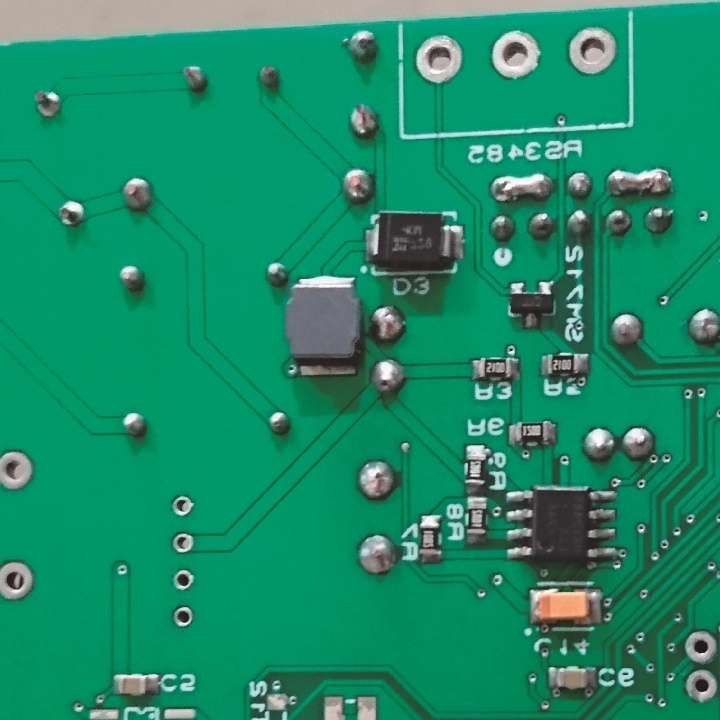F: (490, 26, 543, 83), (410, 32, 465, 86), (565, 26, 620, 79), (1, 449, 36, 495), (1, 563, 39, 605), (681, 627, 720, 666), (681, 667, 719, 703), (170, 529, 197, 557), (171, 603, 196, 632), (170, 566, 197, 592), (169, 494, 197, 518)
P: (602, 164, 675, 200), (486, 169, 553, 203)
